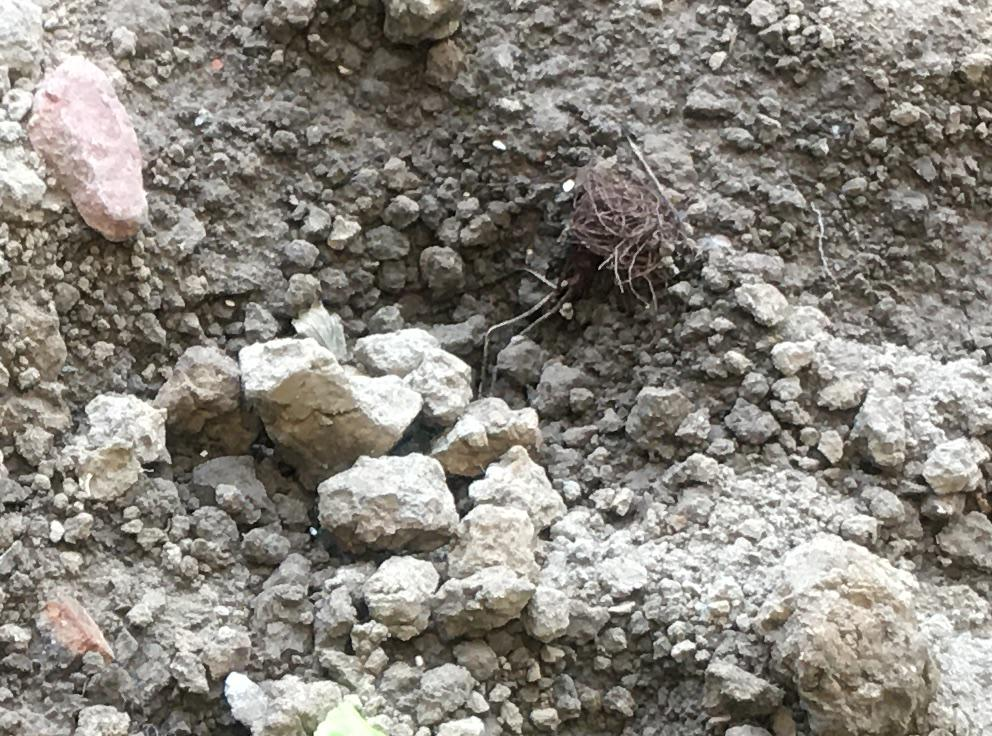block: (769, 536, 942, 736), (234, 335, 420, 479), (24, 57, 153, 247), (308, 455, 453, 550), (440, 499, 531, 633), (441, 389, 544, 477)
